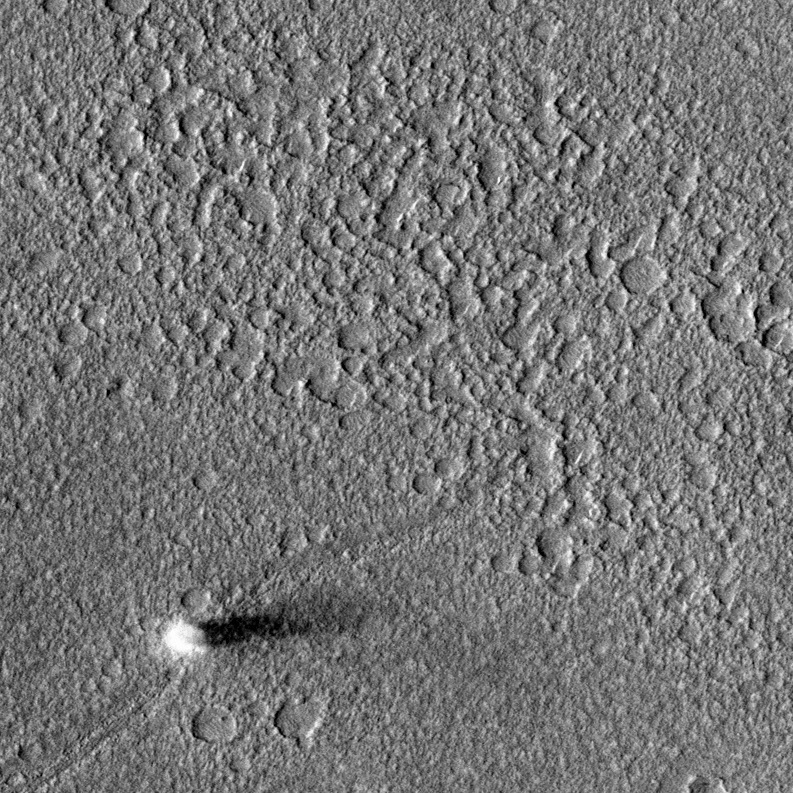dust_devil: (161, 589, 366, 657)
